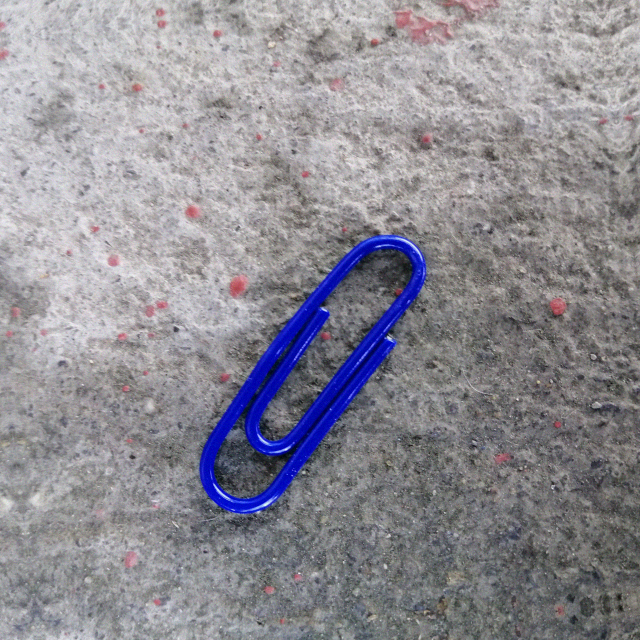pin: (176, 229, 450, 528)
